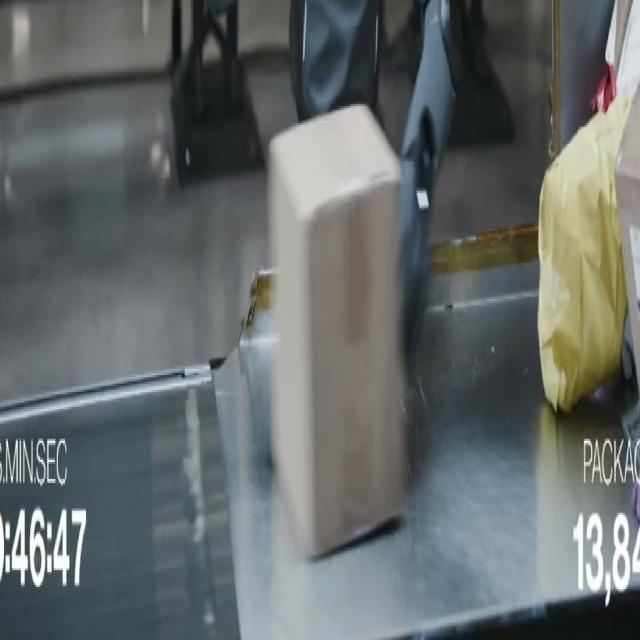package: (268, 106, 405, 559), (538, 98, 630, 411), (616, 92, 639, 370), (606, 0, 639, 99)
